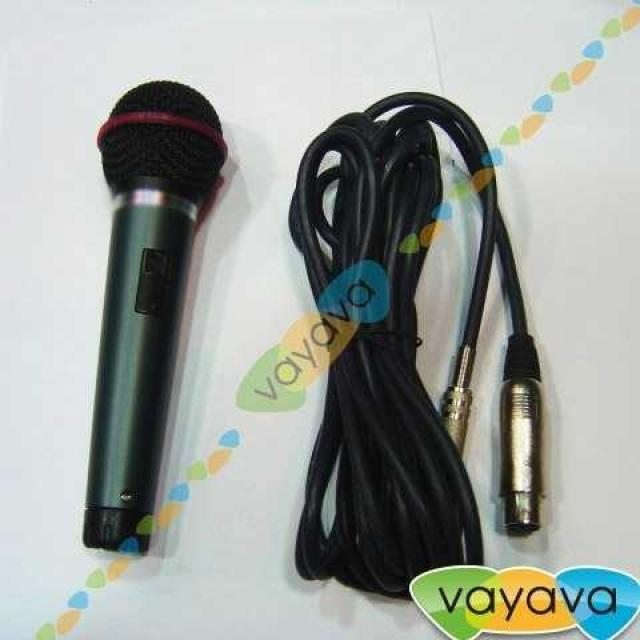microphone: (82, 81, 232, 547)
